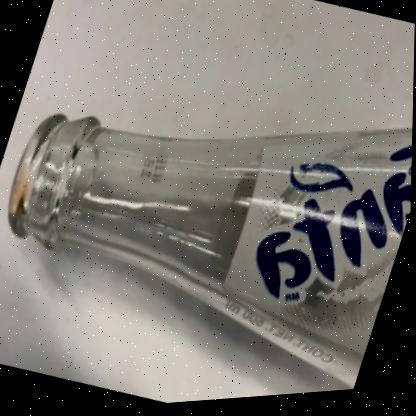Glass: (8, 115, 413, 393)
